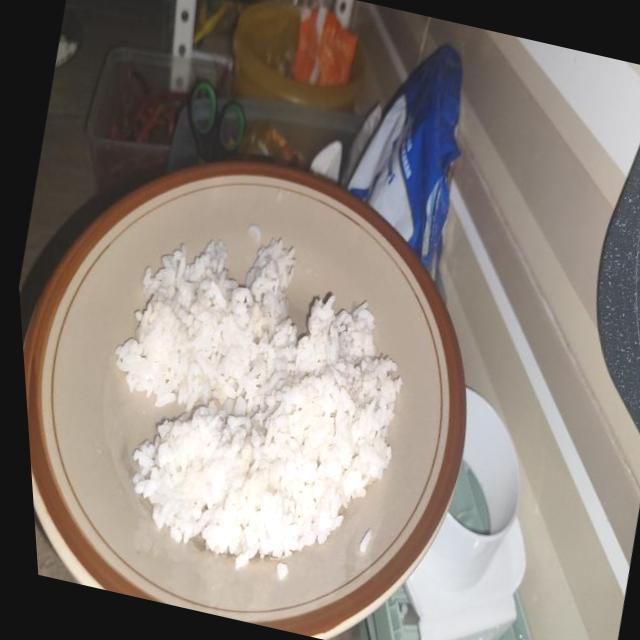nasi_putih: (115, 238, 402, 568)
